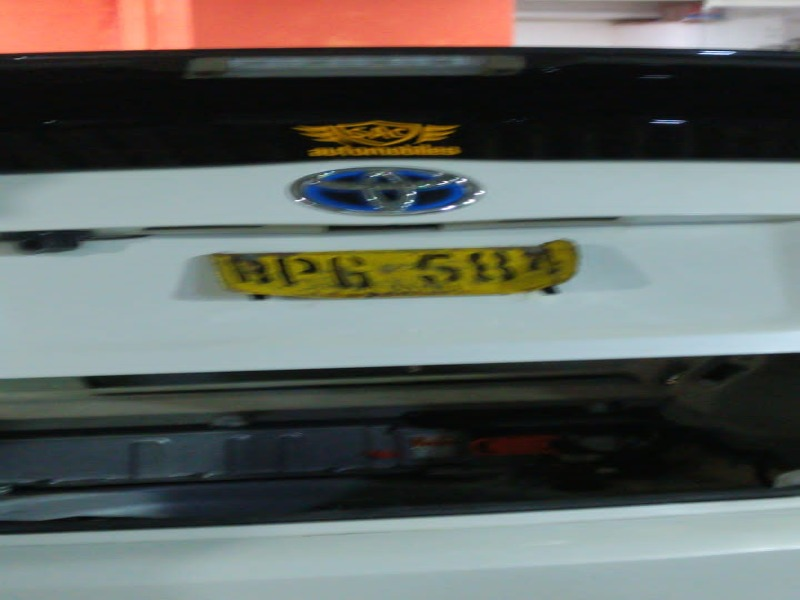License Plate: (214, 241, 583, 299)
